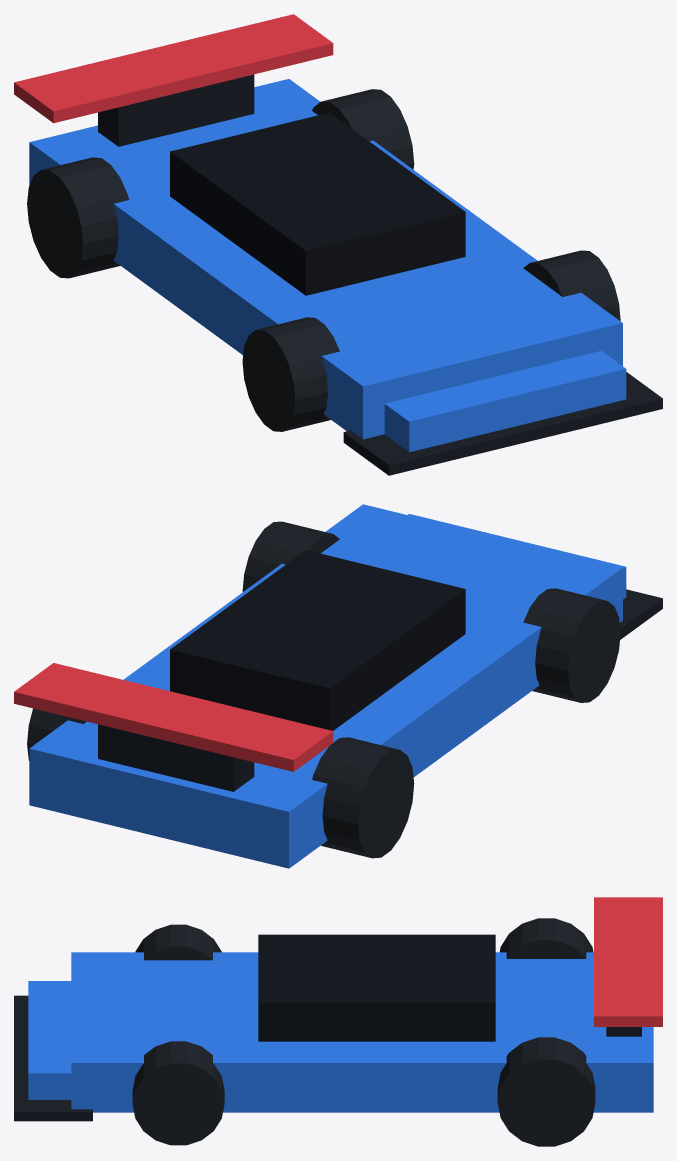
File: car.glb
3 views of the same model, one above another, from view 1: azimuth 30°, elevation 25°; view 2: azimuth 150°, elevation 25°; view 3: azimuth 270°, elevation 25° (orthographic). The views are drawn at different scales.
Visible parts, largest first — view 1: GripLimitSlotCar; view 2: GripLimitSlotCar; view 3: GripLimitSlotCar.
Boxes of the visible parts, x1=… form: GripLimitSlotCar: x1=14, y1=14, x2=662, y2=475; GripLimitSlotCar: x1=14, y1=504, x2=662, y2=868; GripLimitSlotCar: x1=14, y1=897, x2=662, y2=1146.
Size of the model in its own units: 2.32 by 0.9151 by 4.51.
